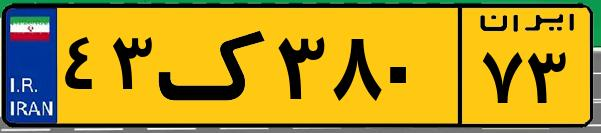0: (385, 28, 445, 110)
3: (270, 28, 330, 110), (525, 38, 570, 115), (110, 28, 158, 98)
4: (57, 26, 110, 100)
7: (475, 38, 525, 113)
8: (330, 28, 385, 110)
ک: (158, 12, 270, 120)
